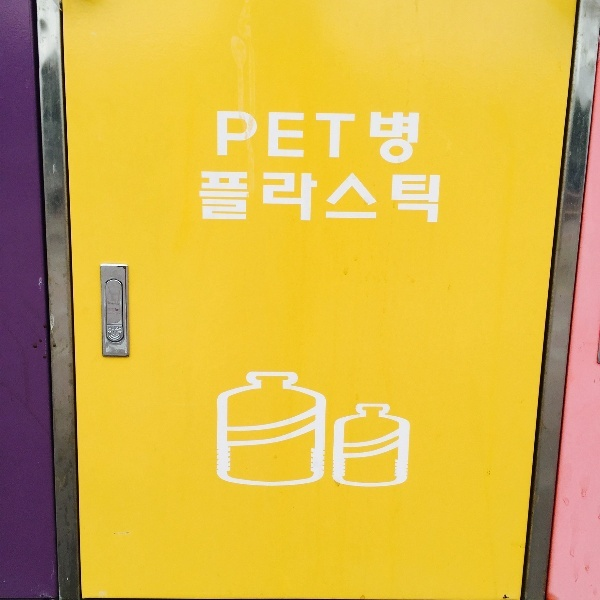text: (369, 110, 384, 168), (385, 110, 400, 168), (401, 110, 416, 168), (209, 170, 224, 226), (225, 170, 240, 226), (241, 170, 256, 226), (257, 170, 272, 226), (273, 170, 288, 226), (289, 170, 304, 226), (305, 170, 320, 226), (321, 170, 336, 226), (337, 170, 352, 226), (353, 170, 368, 226), (369, 170, 384, 226), (385, 170, 400, 226), (401, 170, 416, 226), (417, 170, 432, 226), (225, 109, 240, 163), (241, 109, 256, 163), (257, 109, 272, 163), (273, 109, 288, 163), (289, 109, 304, 163), (305, 109, 320, 163), (321, 109, 336, 163), (337, 109, 352, 163), (198, 170, 208, 226), (433, 170, 441, 226), (216, 109, 224, 163), (417, 110, 421, 168), (353, 109, 357, 163)
